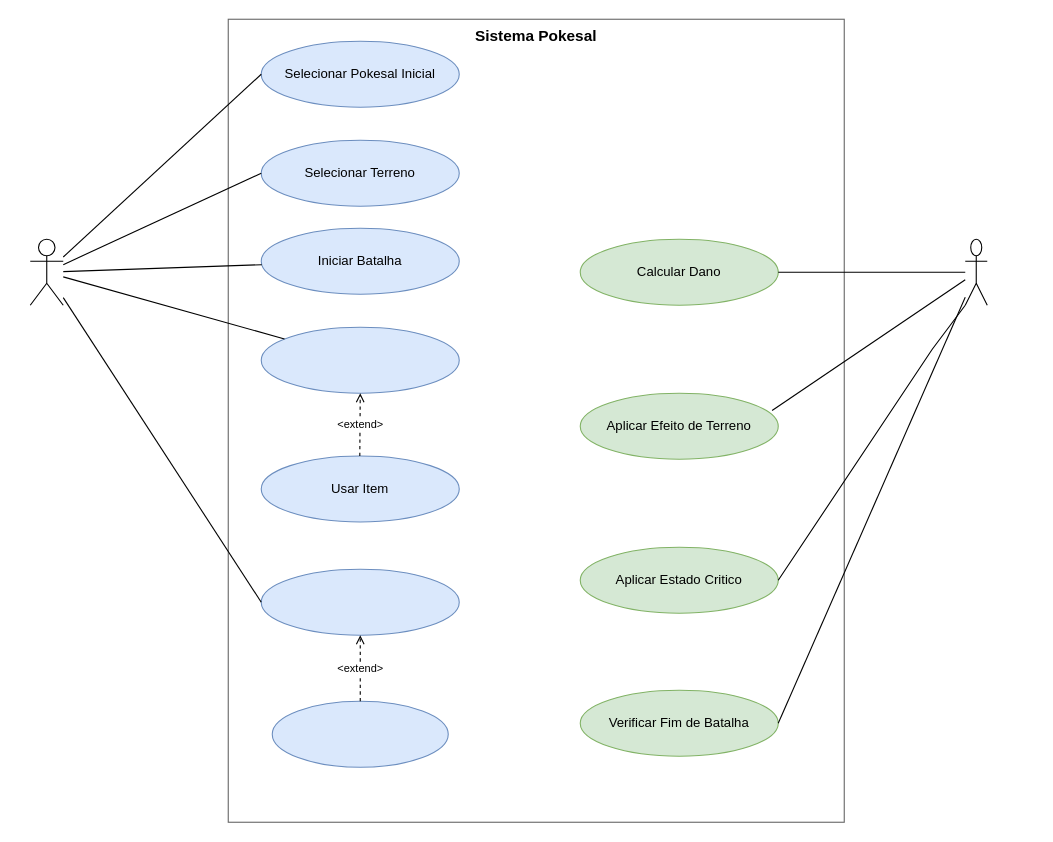
The diagram is 1053 pixels wide and 842 high, and some of its shapes have lost their labels. The box of each missing label's shape, as (x1, y1, x2, y2) in pixels:
Atacar: (260, 326, 459, 393)
Continuar Apos 3a Rodada: (260, 568, 459, 635)
Desistir da Batalha: (271, 700, 448, 767)
Sistema de Batalha: (964, 238, 987, 305)
Treinador: (29, 238, 63, 305)
